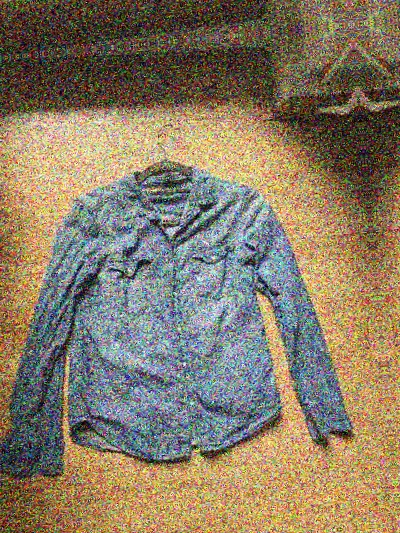Blazer: (0, 110, 378, 504), (376, 70, 400, 464)
